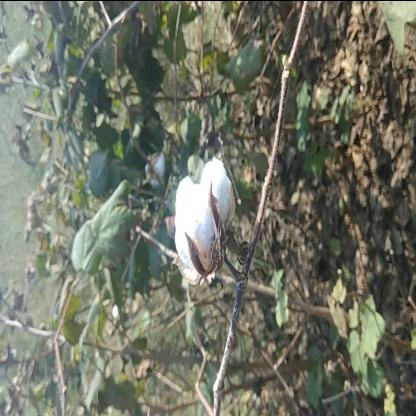cotton_ready: (171, 146, 268, 297)
